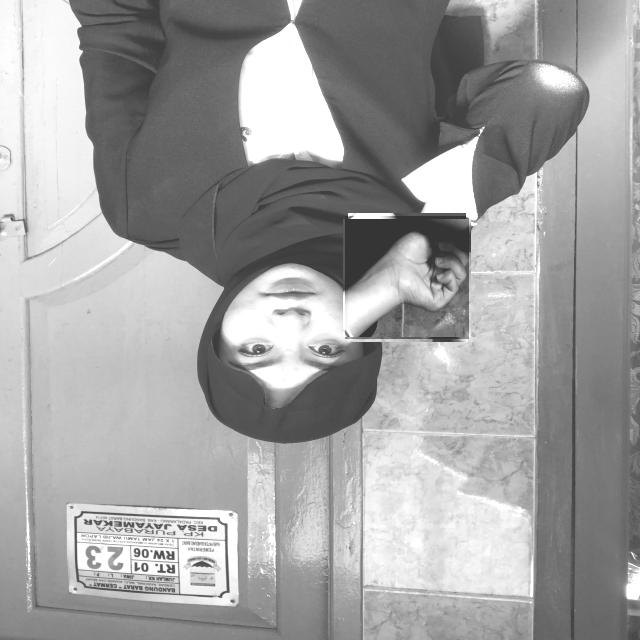ibu: (345, 216, 469, 339)
